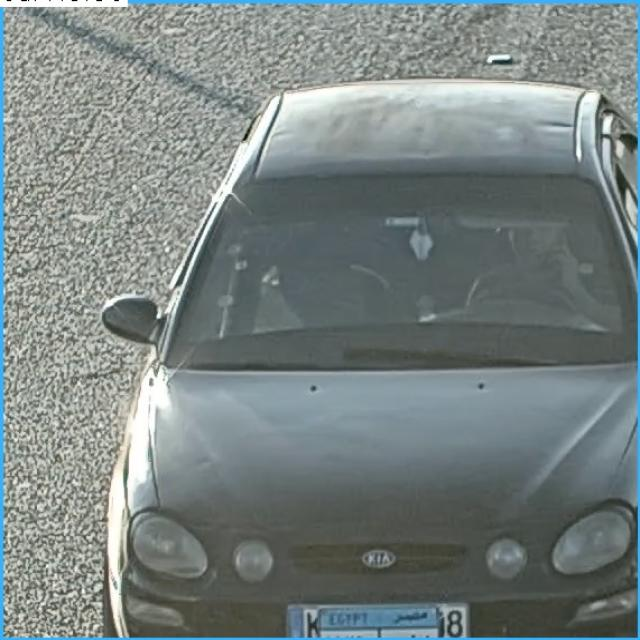windshield: (172, 180, 626, 351)
